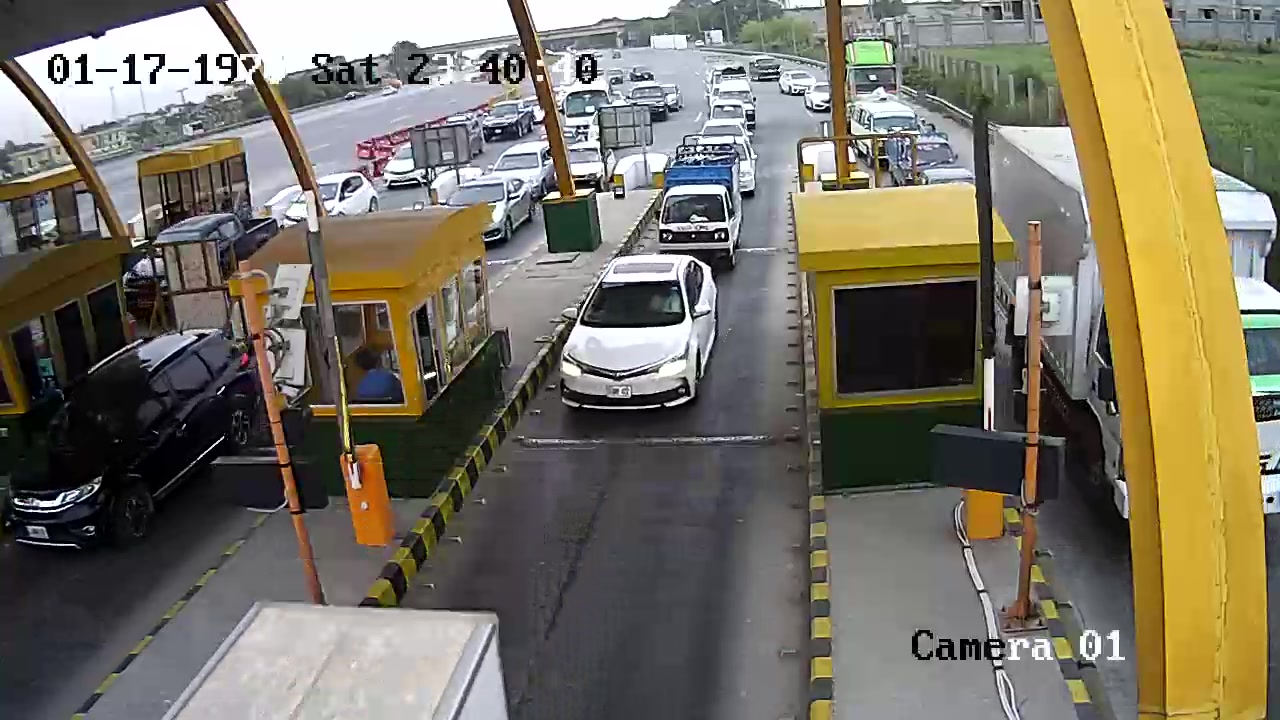F1: (545, 251, 724, 426)
